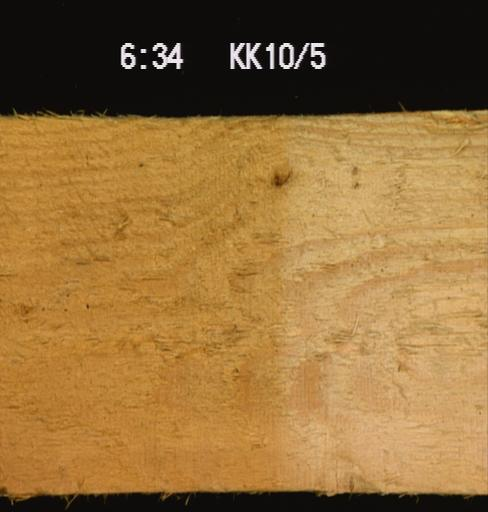split: (393, 324, 464, 368)
